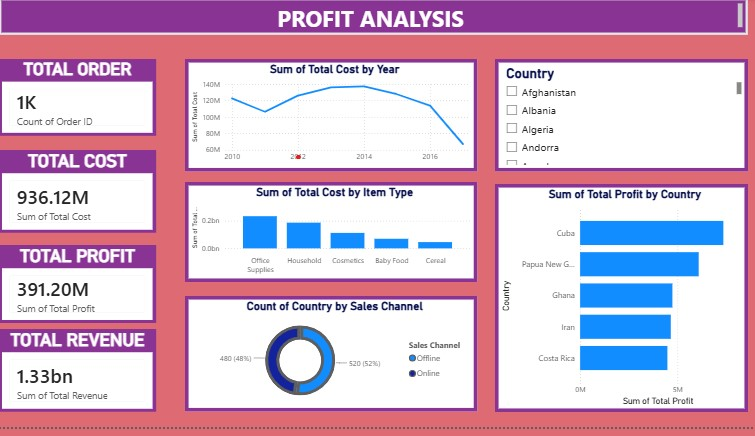

The page's visual inventory and layout, read from the dashboard file:
{"tool":"powerbi","page":{"name":"dashboard","canvas":[1280,720],"ordinal":7},"visuals":[{"type":"textbox","box":[10.1,0,1258.2,62.2],"z":0},{"type":"cardVisual","title":"TOTAL ORDER","fields":{"Data":["CountNonNull(Data.Order ID)"]},"box":[10.1,102.5,263.7,129.3],"z":1000},{"type":"cardVisual","title":"TOTAL COST","fields":{"Data":["Sum(Data.Total Cost)"]},"box":[10.1,255.3,263.7,139.4],"z":2000},{"type":"cardVisual","title":"TOTAL PROFIT","fields":{"Data":["Sum(Data.Total Profit)"]},"box":[10.1,414.9,263.7,131],"z":3000},{"type":"cardVisual","title":"TOTAL REVENUE","fields":{"Data":["Sum(Data.Total Revenue)"]},"box":[10.1,556,263.7,139.4],"z":4000},{"type":"lineChart","fields":{"Category":["Data.Order Date.Variation.Date Hierarchy.Year"],"Y":["Sum(Data.Total Cost)"]},"box":[322.6,102.2,491,188.6],"z":5000},{"type":"donutChart","fields":{"Category":["Data.Sales Channel"],"Y":["CountNonNull(Data.Country)"]},"box":[322.6,501.1,491,194.4],"z":6000},{"type":"clusteredColumnChart","fields":{"Category":["Data.Item Type"],"Y":["Sum(Data.Total Cost)"]},"box":[322.6,309.6,491,168.5],"z":7000},{"type":"clusteredBarChart","fields":{"Category":["Data.Country"],"Y":["Sum(Data.Total Profit)"]},"box":[843.8,312.5,424.8,383],"z":8000},{"type":"slicer","fields":{"Values":["Data.Country"]},"box":[843.8,102.2,424.8,188.6],"z":10000}]}

Visuals, with their boxes in screenshot pixels (x1, y1, x2, y2), scaled from the page's 1280x720 canvas onto the 755x436 screenshot:
textbox: 6:0:748:38
"TOTAL ORDER" cardVisual: 6:62:161:140
"TOTAL COST" cardVisual: 6:155:161:239
"TOTAL PROFIT" cardVisual: 6:251:161:331
"TOTAL REVENUE" cardVisual: 6:337:161:421
lineChart - Data.Order Date.Variation.Date Hierarchy.Year x Sum(Data.Total Cost): 190:62:480:176
donutChart - Data.Sales Channel x CountNonNull(Data.Country): 190:303:480:421
clusteredColumnChart - Data.Item Type x Sum(Data.Total Cost): 190:187:480:290
clusteredBarChart - Data.Country x Sum(Data.Total Profit): 498:189:748:421
slicer - Data.Country: 498:62:748:176
